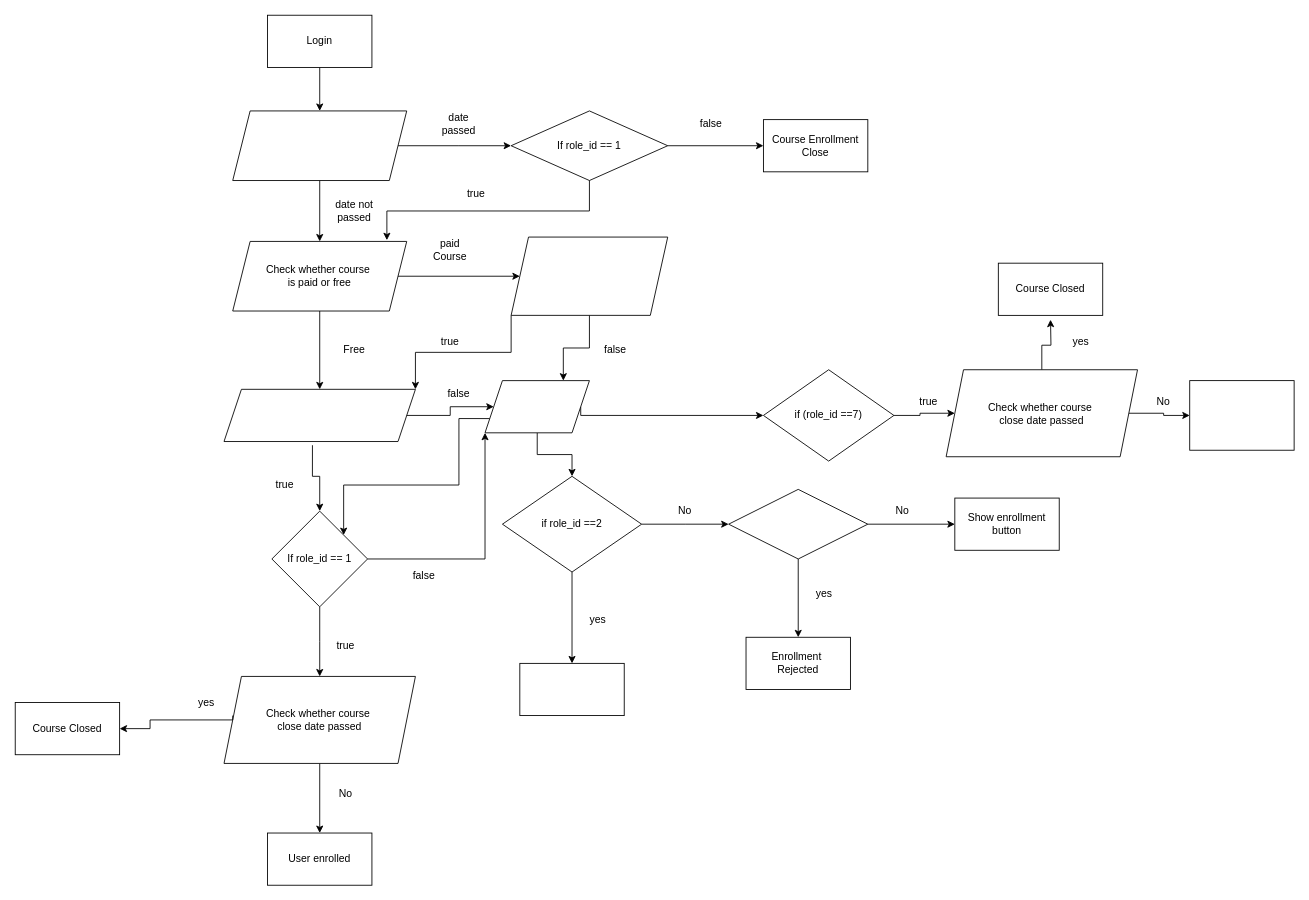
The diagram is 1309 pixels wide and 900 high, and some of its shapes have lost their labels. Each missing label, with the centre of its shape:
"Check Course Enrollment Status" belongs at [319,415].
"Check enrollment end date passed or not" belongs at [319,145].
"Check Payment Status" belongs at [589,275].
"Check role_id" belongs at [536,406].
"Don't show any button" belongs at [571,689].
"if role_id == 5" belongs at [798,524].
"Payment button" belongs at [1241,415].
